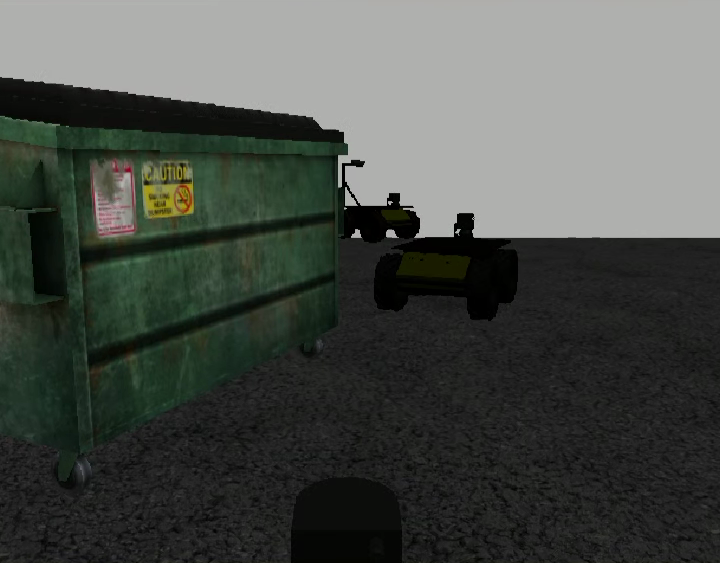husky: (373, 212, 519, 321), (339, 205, 421, 240)
